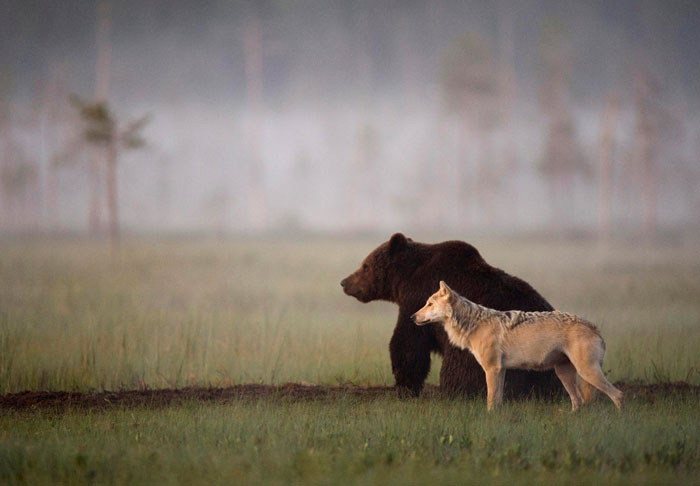bear: (338, 231, 414, 306)
